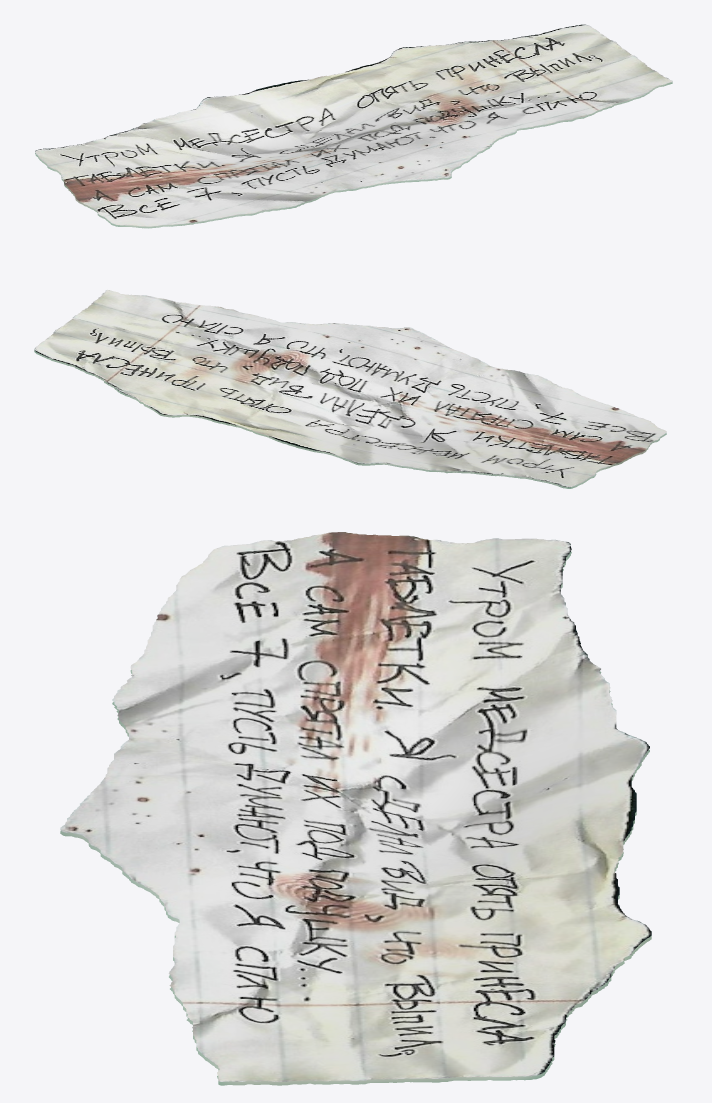
The model's file is Note_1.fbx.
3 renders of one model, top to bottom at view 1: azimuth 30°, elevation 25°; view 2: azimuth 150°, elevation 25°; view 3: azimuth 270°, elevation 25°, orthographic. The views are drawn at different scales.
Parts seen in each view (by area): view 1: Note_1; view 2: Note_1; view 3: Note_1.
Part boxes in pixels (x1=…): Note_1: x1=35, y1=24, x2=672, y2=228; Note_1: x1=34, y1=290, x2=666, y2=488; Note_1: x1=60, y1=532, x2=651, y2=1085.
Bounding box in the file's own units: 0.1662 × 0.00744 × 0.0758.
Materials: 2 (2 with a texture image).
